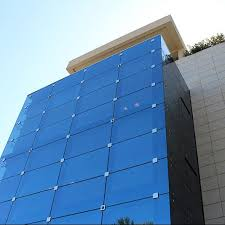glass panel: (105, 159, 168, 205), (109, 129, 166, 171), (102, 194, 170, 224), (52, 177, 104, 216), (112, 104, 164, 142), (59, 148, 108, 184), (115, 83, 163, 117), (65, 123, 110, 157), (7, 191, 53, 223), (17, 163, 59, 195), (117, 67, 162, 96), (71, 102, 113, 133), (26, 139, 65, 170), (76, 84, 116, 114), (34, 117, 71, 147), (80, 68, 117, 95), (85, 54, 119, 79), (41, 101, 74, 126), (2, 132, 35, 156), (119, 54, 150, 78), (10, 114, 41, 138), (48, 85, 79, 108), (0, 153, 27, 179), (51, 210, 101, 224), (52, 71, 83, 92), (121, 41, 148, 63), (0, 176, 19, 201), (28, 85, 51, 102), (0, 202, 10, 223)
